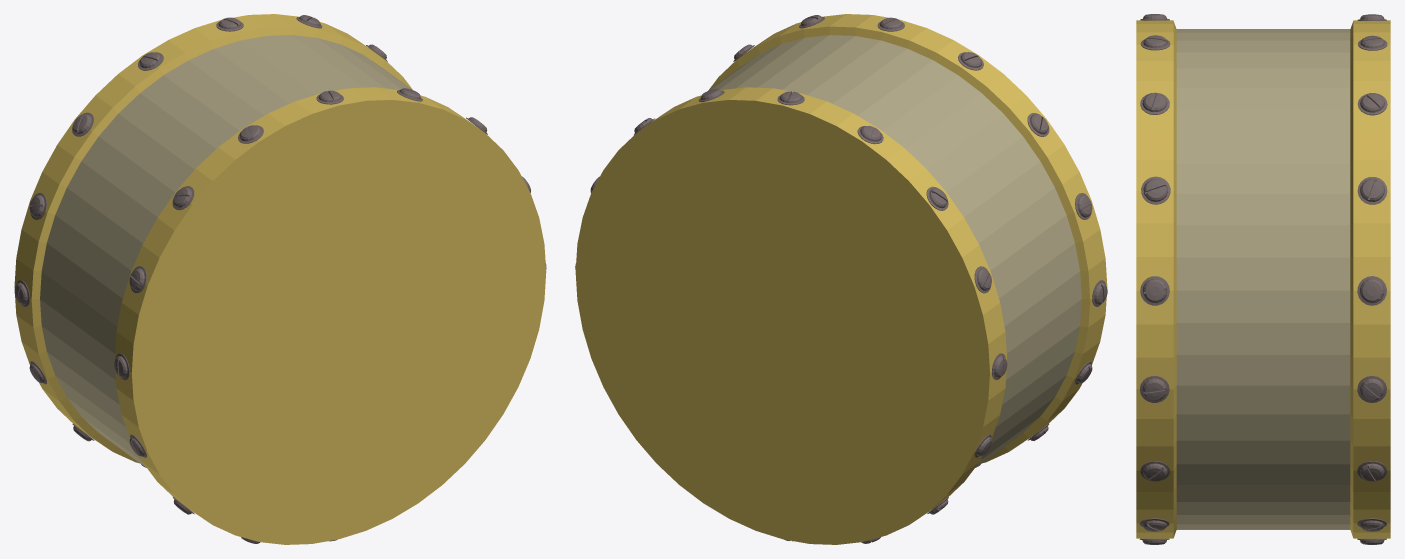
File: slotwheel.fbx
The picture shows the model from 3 angles, left to right: view 1: azimuth 30°, elevation 25°; view 2: azimuth 150°, elevation 25°; view 3: azimuth 270°, elevation 25°; orthographic projection. The views are drawn at different scales.
Visible parts, largest first — view 1: Cylinder; view 2: Cylinder; view 3: Cylinder.
Boxes of the visible parts, x1,y1,x2,y2 form: Cylinder: (14, 14, 546, 544); Cylinder: (575, 14, 1107, 544); Cylinder: (1136, 14, 1390, 544).
Size of the model in its own units: 212 by 212 by 101.
